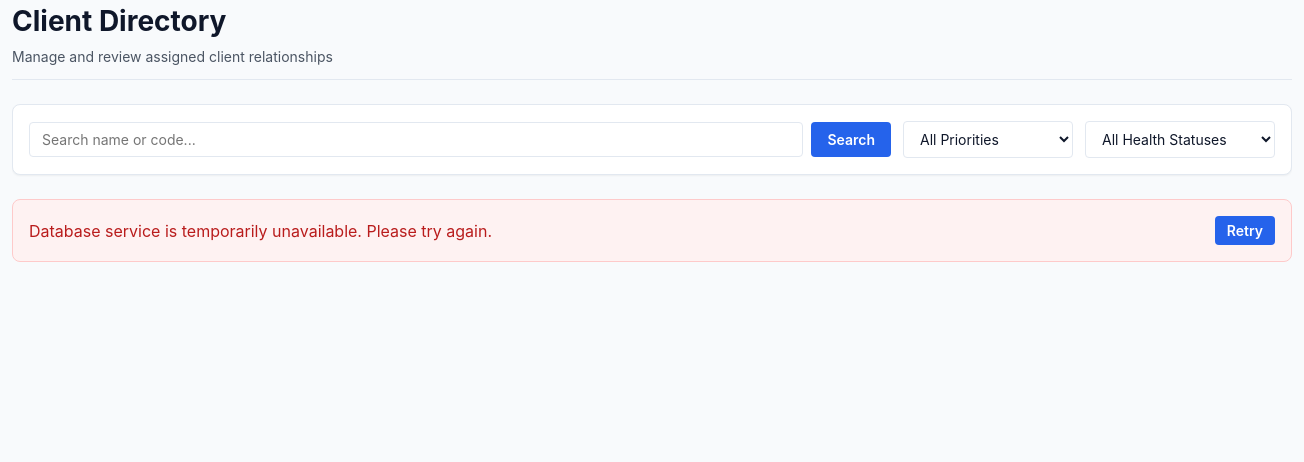
Test: ClientListView Component › displays error message and supports retry on 503 dependency unavailable
Check: the message shows "Database service is temporarily unavailable", box [29,220,492,240]
Click the button "Retry" at (1245, 230), box [1215,216,1275,245]
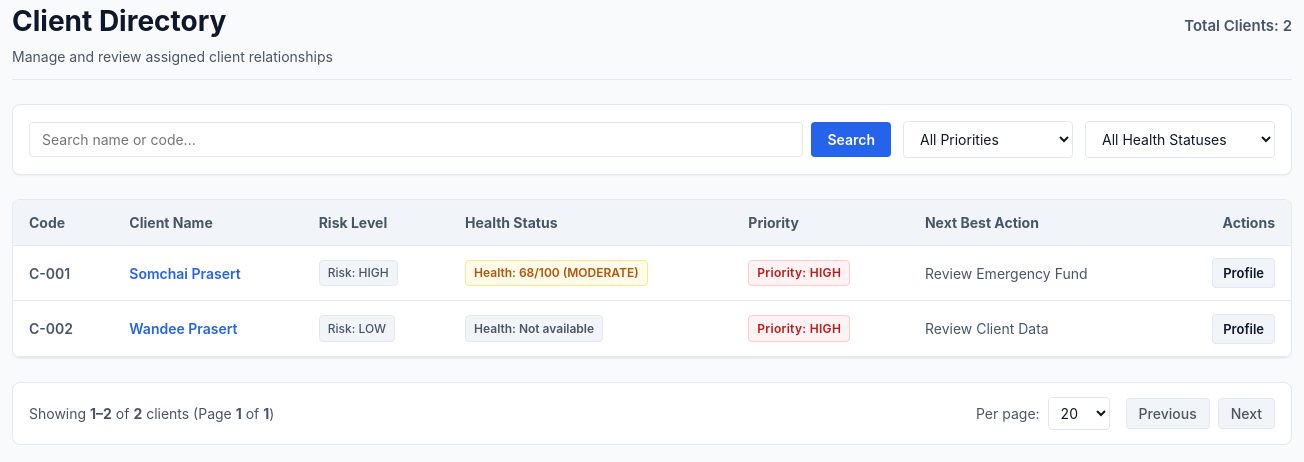
Check: the link "Somchai Prasert" is shown, box [129,265,241,282]
